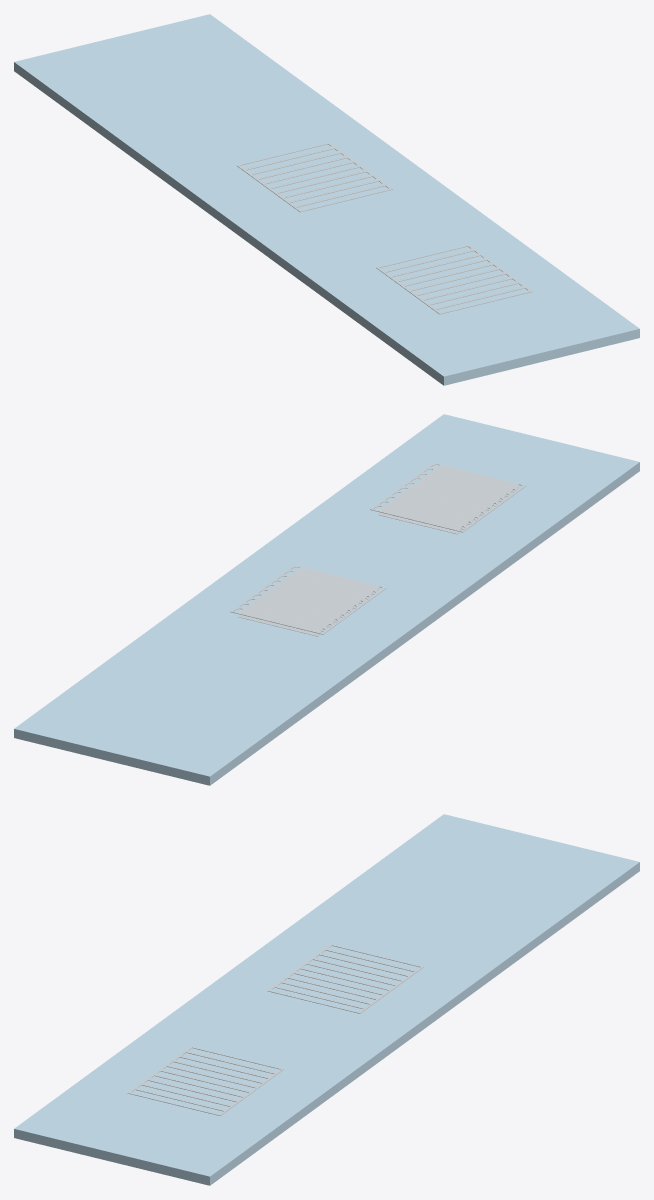
Rendered from PuertaDerecha.gltf.
3 renders of one model, top to bottom at view 1: azimuth 30°, elevation 25°; view 2: azimuth 150°, elevation 25°; view 3: azimuth 330°, elevation 25°, orthographic.
Parts seen in each view (by area): view 1: Part 1; view 2: Part 1; view 3: Part 1.
Part boxes in pixels (x1,y1,x2,y2): Part 1: (14,14,639,385); Part 1: (14,414,639,785); Part 1: (14,814,639,1185).
Size of the model in its own units: 0.4457 by 0.0764 by 1.69.
